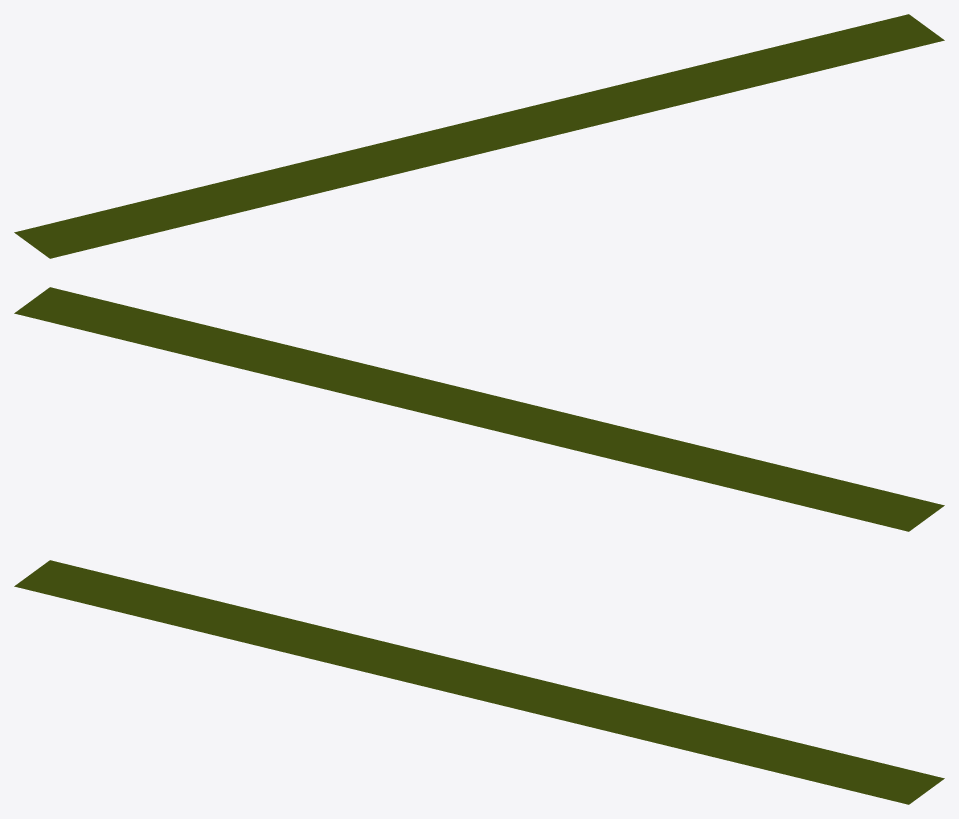
Rendered from Agua_Area_1_Corrente.fbx.
The picture shows the model from 3 angles, top to bottom: view 1: azimuth 30°, elevation 25°; view 2: azimuth 150°, elevation 25°; view 3: azimuth 330°, elevation 25°; orthographic projection.
Parts seen in each view (by area): view 1: Plane.042; view 2: Plane.042; view 3: Plane.042.
Part boxes in pixels (<box>): Plane.042: <box>14,14,944,258</box>; Plane.042: <box>14,287,944,531</box>; Plane.042: <box>14,560,944,804</box>.
Bounding box in the file's own units: 13254 × 0 × 924.
